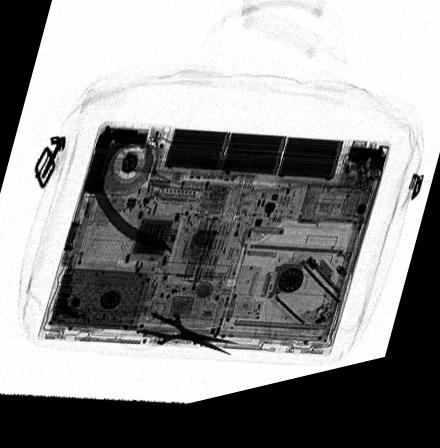Scissors: (131, 314, 243, 368)
